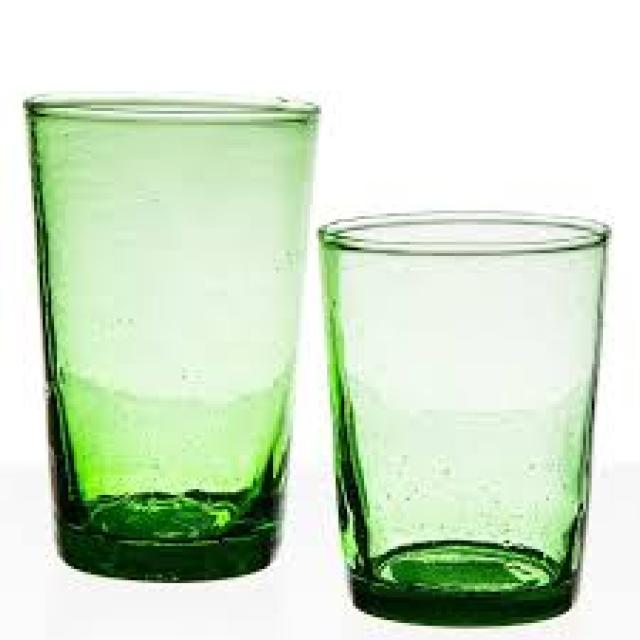glass: (23, 91, 316, 577), (316, 211, 606, 620)
